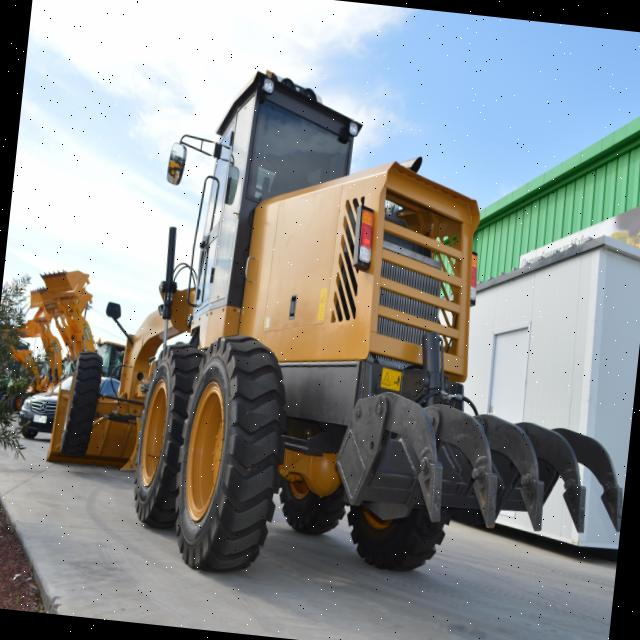Grader: (20, 42, 640, 636)
